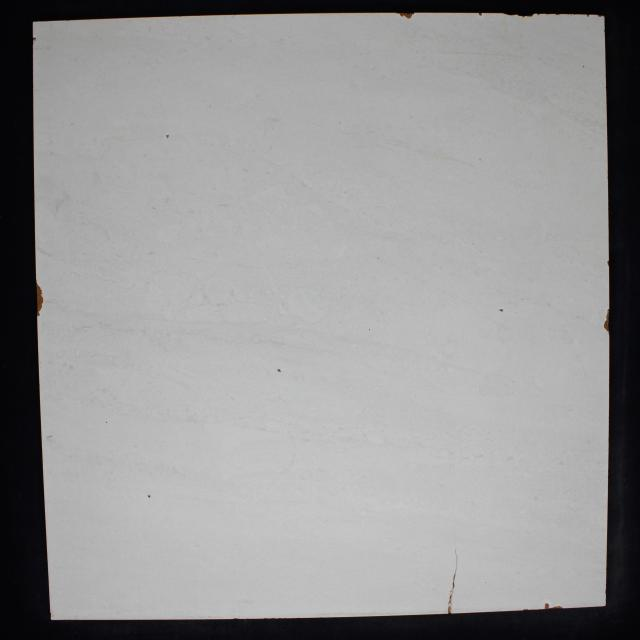edge-chipping: (36, 282, 43, 295), (603, 320, 609, 334), (37, 304, 43, 317), (404, 12, 415, 19), (516, 14, 534, 18), (37, 296, 44, 304), (606, 308, 610, 320), (550, 606, 564, 609), (503, 13, 516, 16), (544, 603, 550, 609), (396, 12, 403, 17), (448, 606, 452, 614), (586, 15, 590, 18), (478, 13, 482, 16), (607, 260, 609, 266), (598, 15, 602, 17)
hole: (276, 368, 282, 373), (498, 308, 504, 312), (147, 494, 151, 498), (166, 134, 169, 138)
line: (454, 548, 458, 571)
